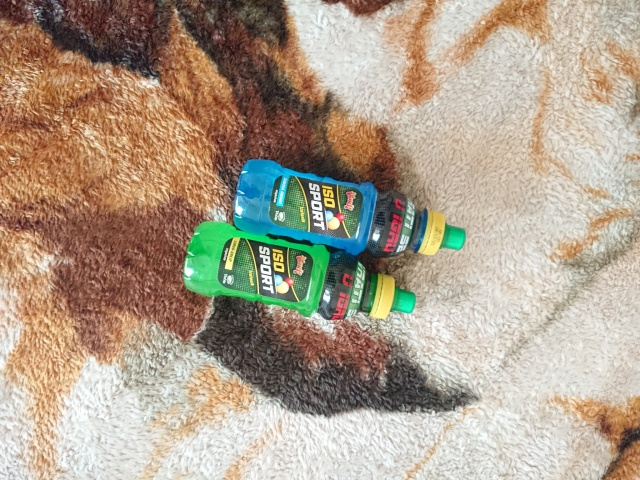Vindi Iso Sport Forest Strawberries 500mL: (231, 156, 468, 260)
Vindi Iso Sport Lemon-Grapefruit 500mL: (179, 218, 419, 325)
